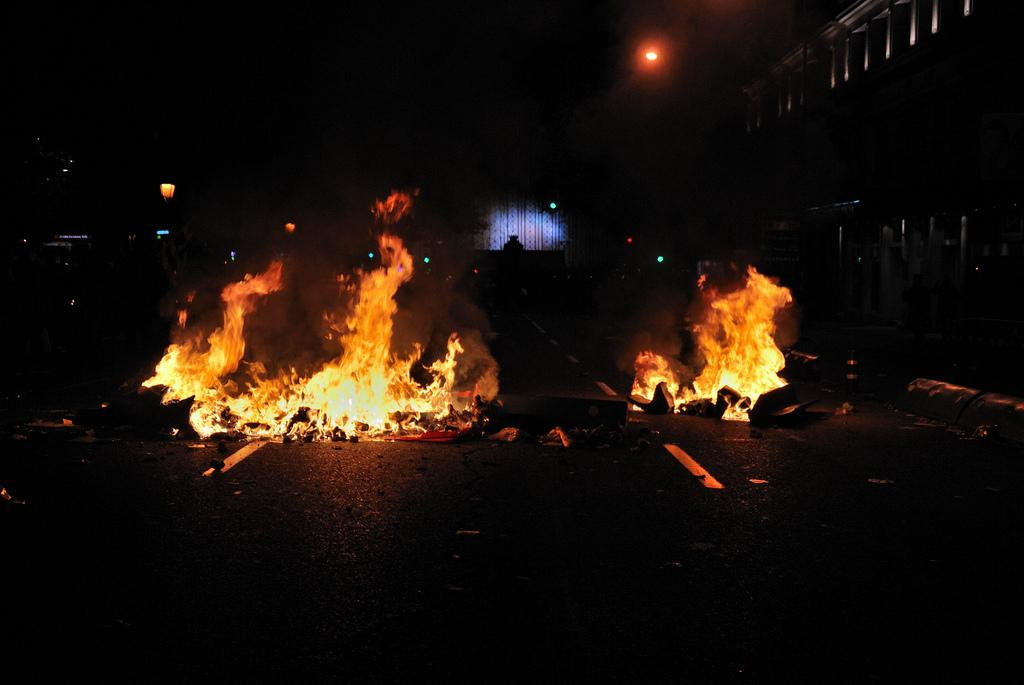fire: (697, 283, 787, 397), (305, 360, 433, 423), (162, 333, 238, 387), (342, 275, 398, 348), (247, 365, 288, 418)
